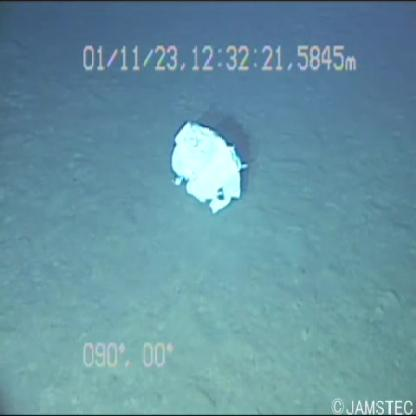Rác: (159, 117, 254, 218)
